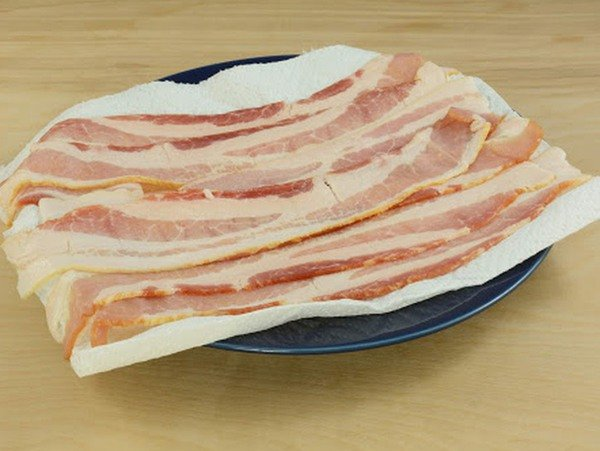bacon: (37, 116, 531, 301)
